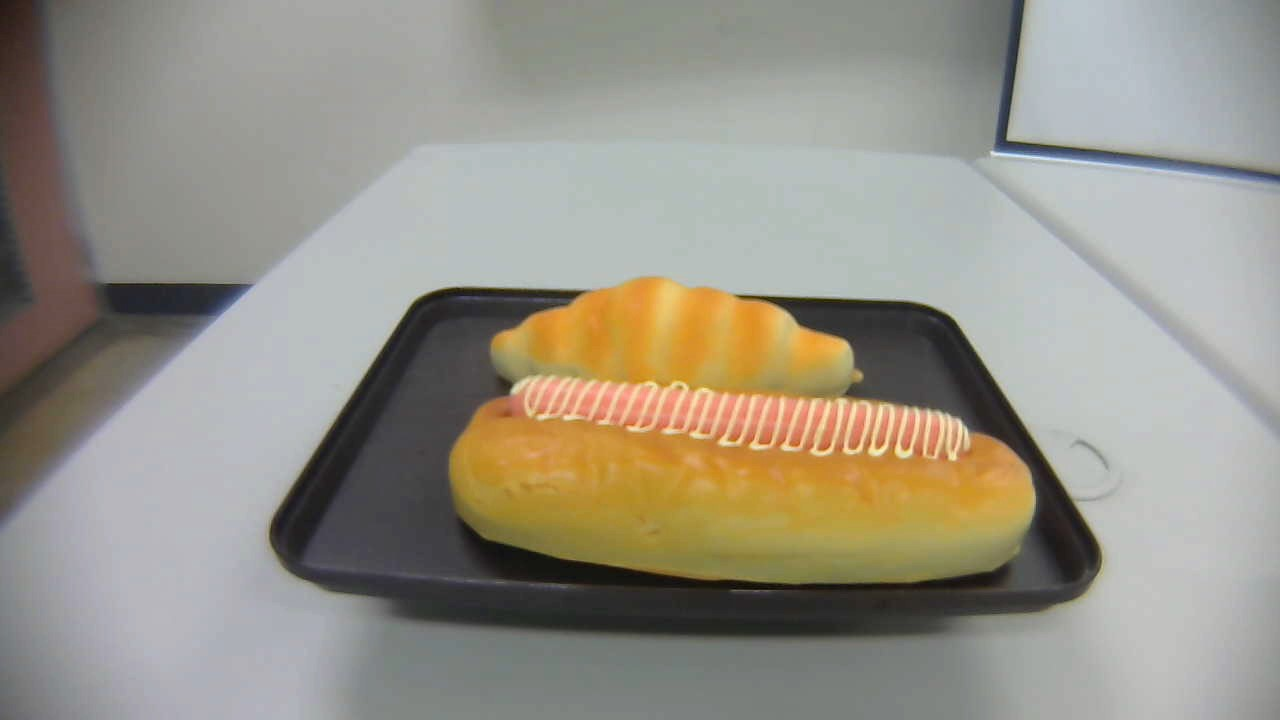croissant: (490, 274, 864, 416)
hot dog: (450, 376, 1039, 582)
